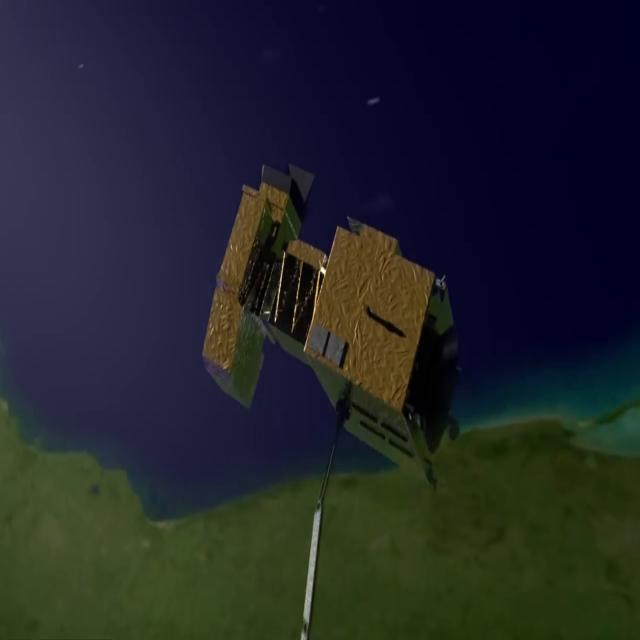satellite: (178, 162, 505, 510)
